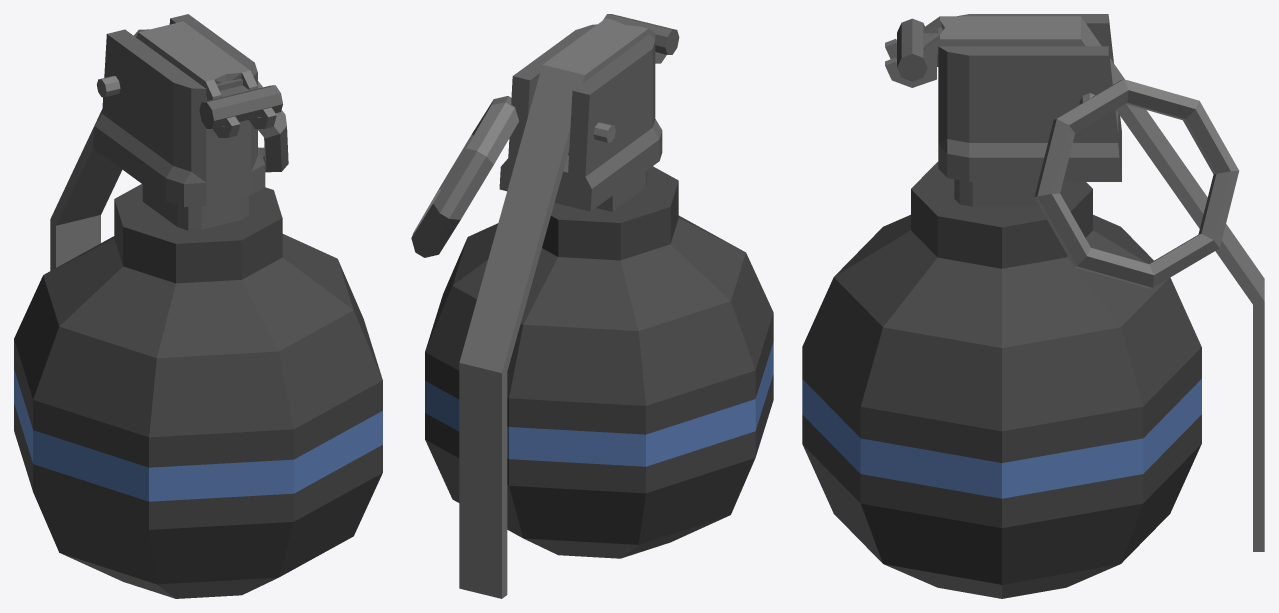
File: w_grenade.glb
3 renders of one model, left to right at view 1: azimuth 30°, elevation 25°; view 2: azimuth 150°, elevation 25°; view 3: azimuth 270°, elevation 25°, orthographic. The views are drawn at different scales.
Parts seen in each view (by area): view 1: hull; view 2: hull; view 3: hull.
Boxes of the visible parts, <box> form: hull: <box>14,14,382,598</box>; hull: <box>411,14,773,598</box>; hull: <box>802,14,1264,598</box>.
Size of the model in its own units: 0.1 by 0.1471 by 0.1158.
